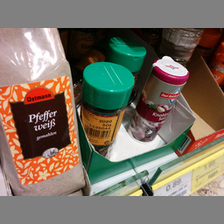spices: (1, 29, 86, 197), (81, 61, 134, 158), (130, 57, 189, 142)
